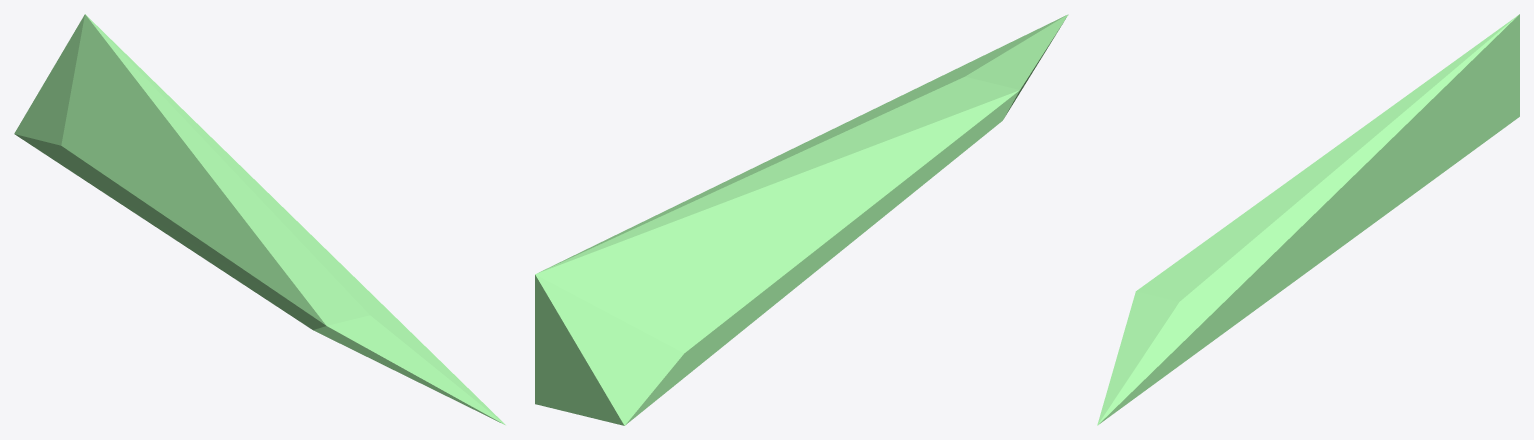
Rendered from dxxx_Lp21_respondable_PSM1_coll_2.dae.
3 views of the same model, side by side, from view 1: azimuth 30°, elevation 25°; view 2: azimuth 150°, elevation 25°; view 3: azimuth 330°, elevation 25° (orthographic). The views are drawn at different scales.
Visible parts, largest first — view 1: Node_000001D818CBB270; view 2: Node_000001D818CBB270; view 3: Node_000001D818CBB270.
Part boxes in pixels (<box>): Node_000001D818CBB270: <box>14,14,505,425</box>; Node_000001D818CBB270: <box>535,14,1068,425</box>; Node_000001D818CBB270: <box>1097,14,1519,425</box>.
Size of the model in its own units: 0.013 by 0.018 by 0.1341.
